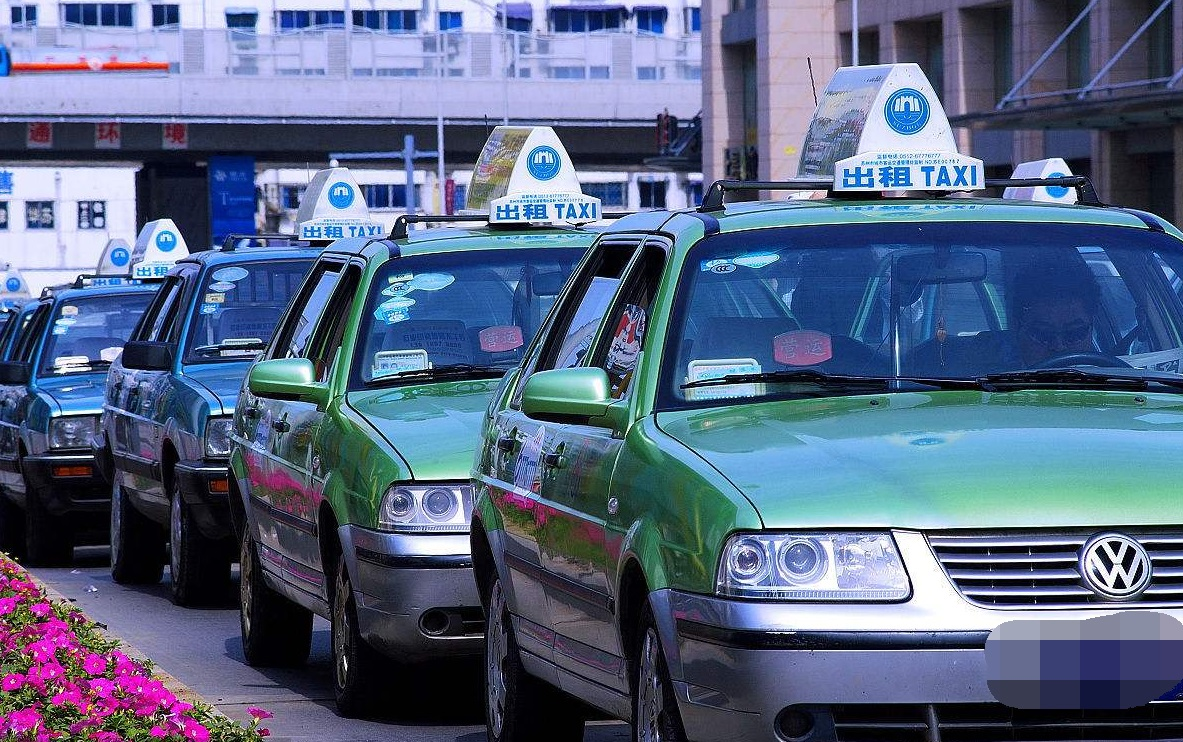taxi: (469, 62, 1183, 742)
